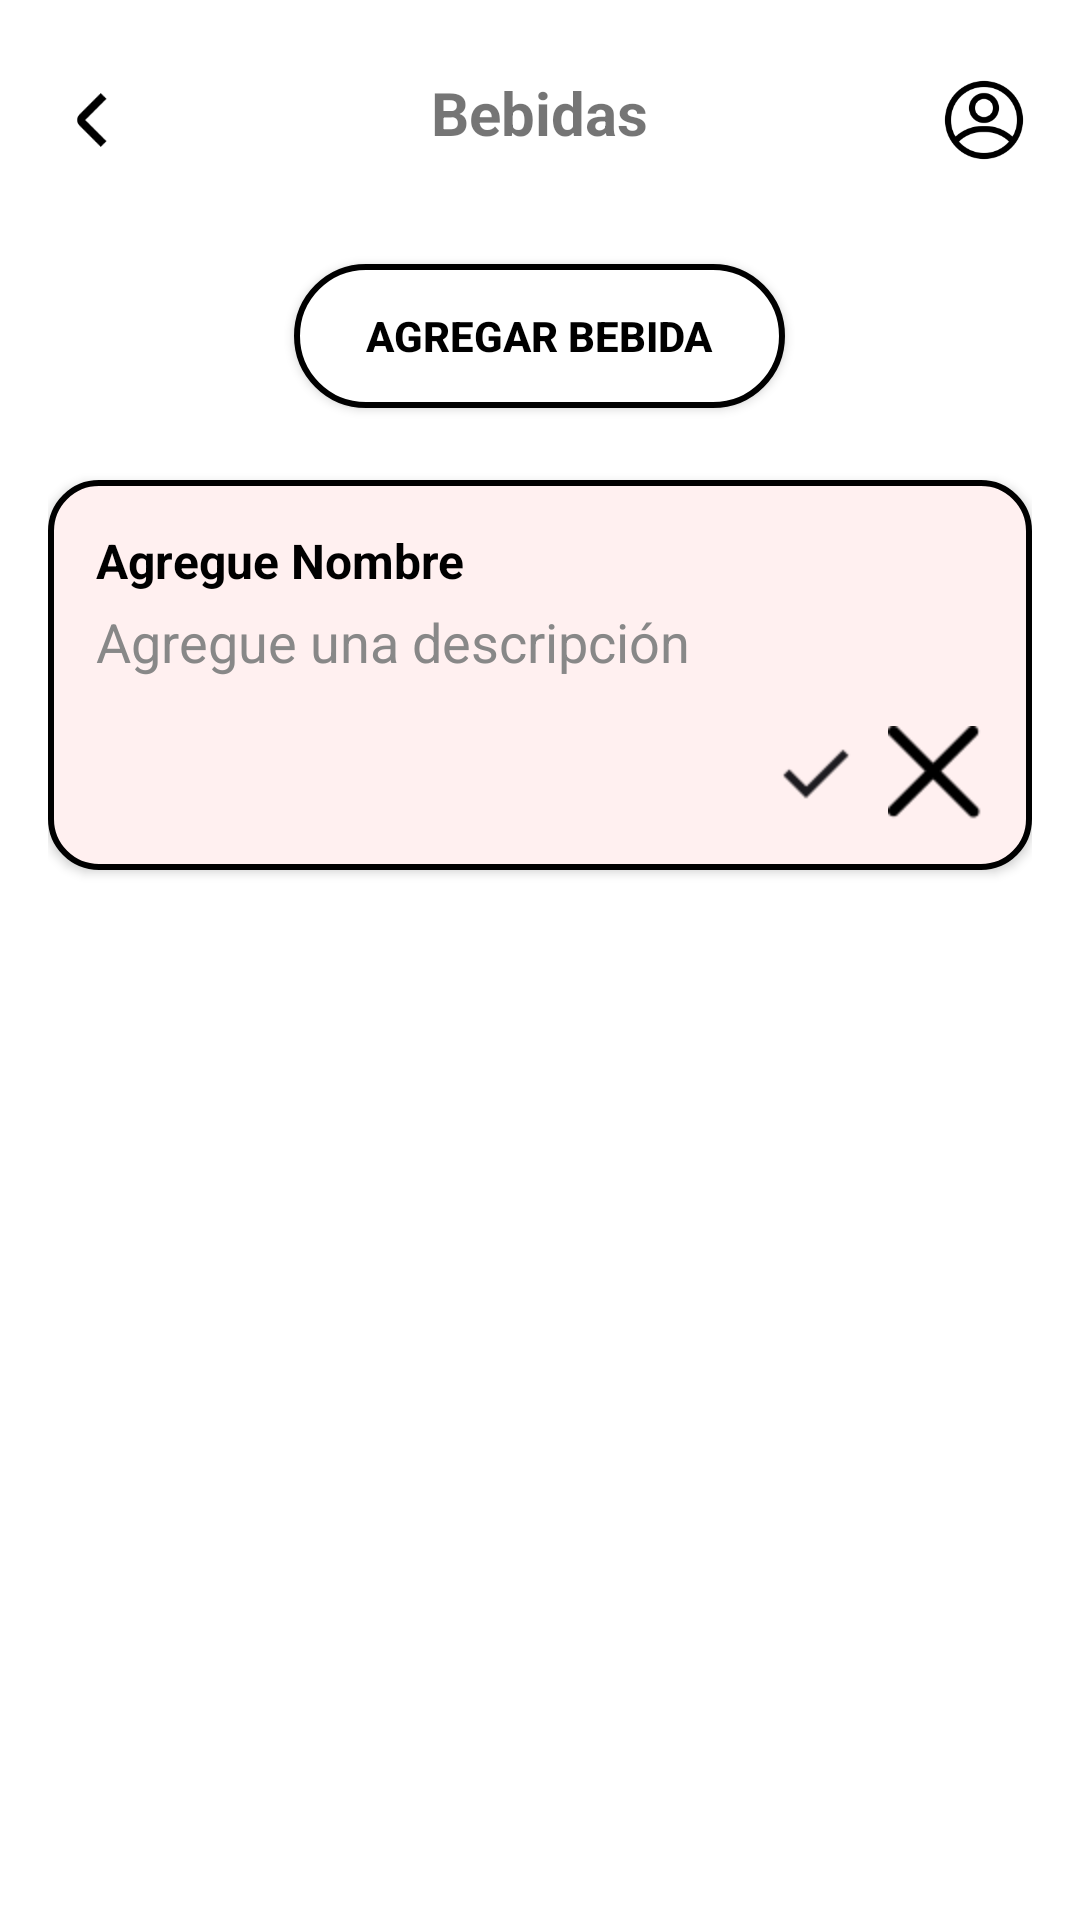

Named icons in this screenshot (1080px×1920px) and their bounding boxes, (x1, y1, x2, y2):
Cancelar: (888, 726, 981, 819)
Confirmar: (783, 749, 849, 799)
Perfil: (945, 81, 1023, 159)
Volver: (77, 93, 107, 147)
